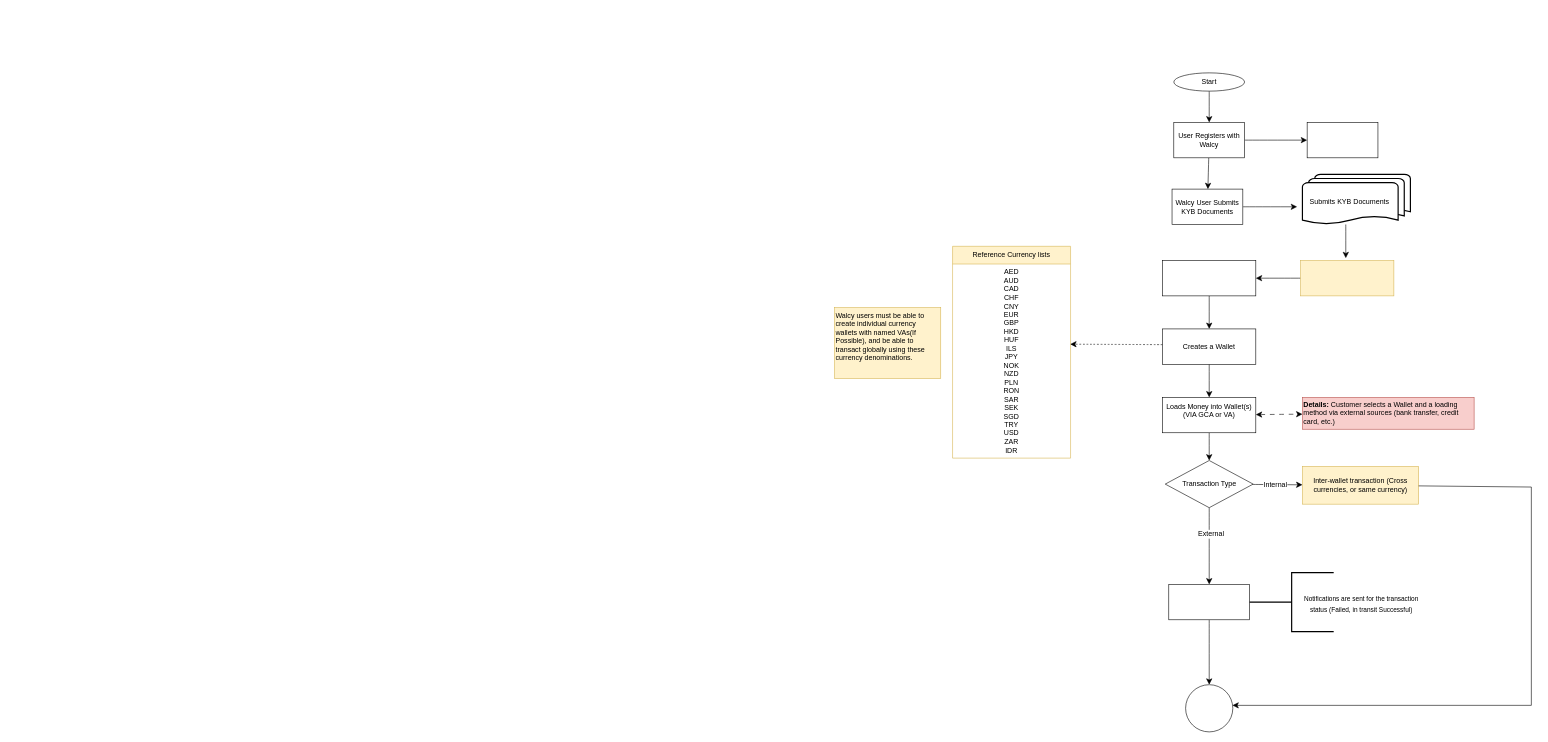
This 1548x742 diagram has some shape labels left out. The centre of each missing label's shape, as x and y in pixels:
"Customer Created on Finmo (Wallet Ready)" belongs at point (1209, 278).
"END" belongs at point (1209, 708).
"Send money to other beneficiary bank" belongs at point (1209, 602).
"Verification Email Sent" belongs at point (1342, 140).
"Walcy Verifies the KYB documents." belongs at point (1347, 278).
